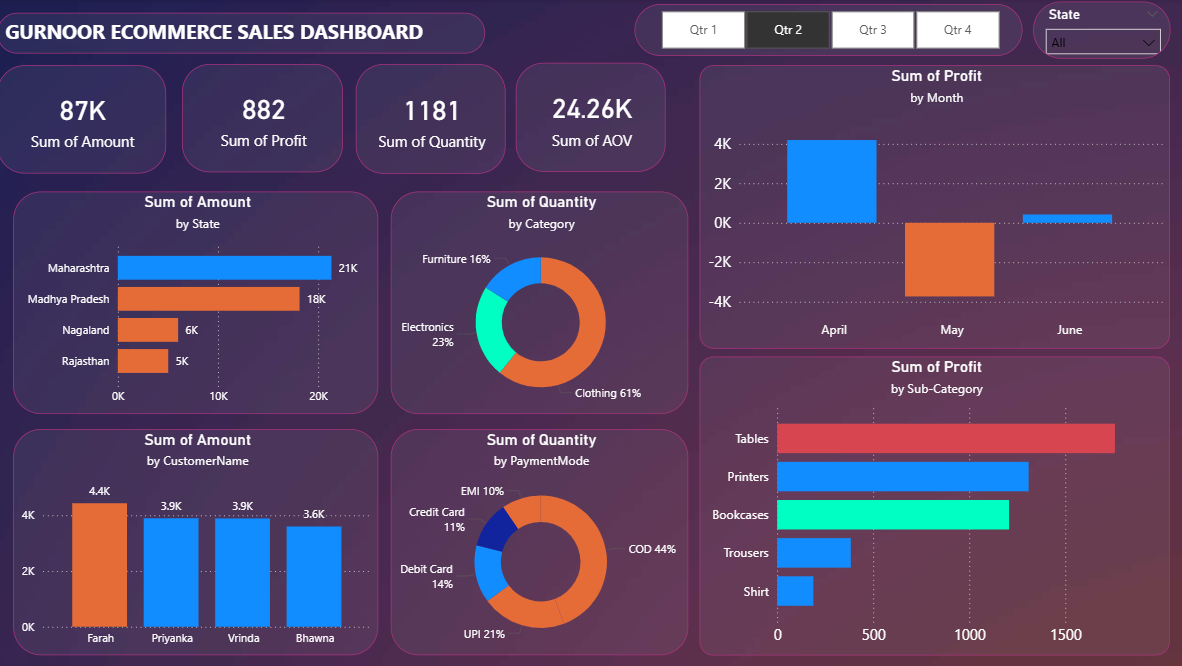

What the dashboard file says about the page in this screenshot:
{"tool":"powerbi","page":{"name":"Page 1","canvas":[1280,720],"ordinal":0},"visuals":[{"type":"textbox","box":[0,15.1,526.5,43.9],"z":0},{"type":"columnChart","fields":{"Y":["Sum(Details (1).Profit)"],"Category":["Orders (1).Order Date.Variation.Date Hierarchy.Month"]},"box":[758.2,71.3,507.3,305.7],"z":1000},{"type":"clusteredBarChart","fields":{"Category":["Details (1).Sub-Category"],"Y":["Sum(Details (1).Profit)"]},"box":[758.2,385.3,507.3,322.2],"z":2000},{"type":"donutChart","fields":{"Category":["Details (1).Category"],"Y":["Sum(Details (1).Quantity)"]},"box":[425,207,320.8,239.9],"z":3000},{"type":"donutChart","fields":{"Category":["Details (1).PaymentMode"],"Y":["Sum(Details (1).Quantity)"]},"box":[425,463.4,320.8,244],"z":4000},{"type":"card","fields":{"Values":["Sum(Details (1).Amount)"]},"box":[0,71.3,182.3,116.5],"z":5000},{"type":"card","fields":{"Values":["Sum(Details (1).Profit)"]},"box":[199.1,70,173.7,117],"z":6000},{"type":"card","fields":{"Values":["Sum(Details (1).Quantity)"]},"box":[387.3,70,161.7,118.2],"z":7000},{"type":"card","fields":{"Values":["Sum(Details (1).AOV)"]},"box":[559.4,68.6,161.8,117.9],"z":8000},{"type":"barChart","fields":{"Category":["Orders (1).State"],"Y":["Sum(Details (1).Amount)"]},"box":[17.8,207,393.5,239.9],"z":9000},{"type":"columnChart","fields":{"Category":["Orders (1).CustomerName"],"Y":["Sum(Details (1).Amount)"]},"box":[17.8,463.4,393.5,244],"z":10000},{"type":"slicer","fields":{"Values":["Orders (1).Order Date.Variation.Date Hierarchy.Quarter"]},"box":[686.9,5.5,418.2,56.2],"z":11000},{"type":"slicer","fields":{"Values":["Orders (1).State"]},"box":[1117.4,2.7,148.1,61.7],"z":12000}]}

Visuals, with their boxes in screenshot pixels (x1, y1, x2, y2), scaled from the page's 1280x720 canvas onto the 1182x666 screenshot:
textbox: (0,14,486,55)
columnChart - Sum(Details (1).Profit) x Orders (1).Order Date.Variation.Date Hierarchy.Month: (700,66,1169,349)
clusteredBarChart - Details (1).Sub-Category x Sum(Details (1).Profit): (700,356,1169,654)
donutChart - Details (1).Category x Sum(Details (1).Quantity): (392,191,689,413)
donutChart - Details (1).PaymentMode x Sum(Details (1).Quantity): (392,429,689,654)
card - Sum(Details (1).Amount): (0,66,168,174)
card - Sum(Details (1).Profit): (184,65,344,173)
card - Sum(Details (1).Quantity): (358,65,507,174)
card - Sum(Details (1).AOV): (517,63,666,173)
barChart - Orders (1).State x Sum(Details (1).Amount): (16,191,380,413)
columnChart - Orders (1).CustomerName x Sum(Details (1).Amount): (16,429,380,654)
slicer - Orders (1).Order Date.Variation.Date Hierarchy.Quarter: (634,5,1020,57)
slicer - Orders (1).State: (1032,2,1169,60)
